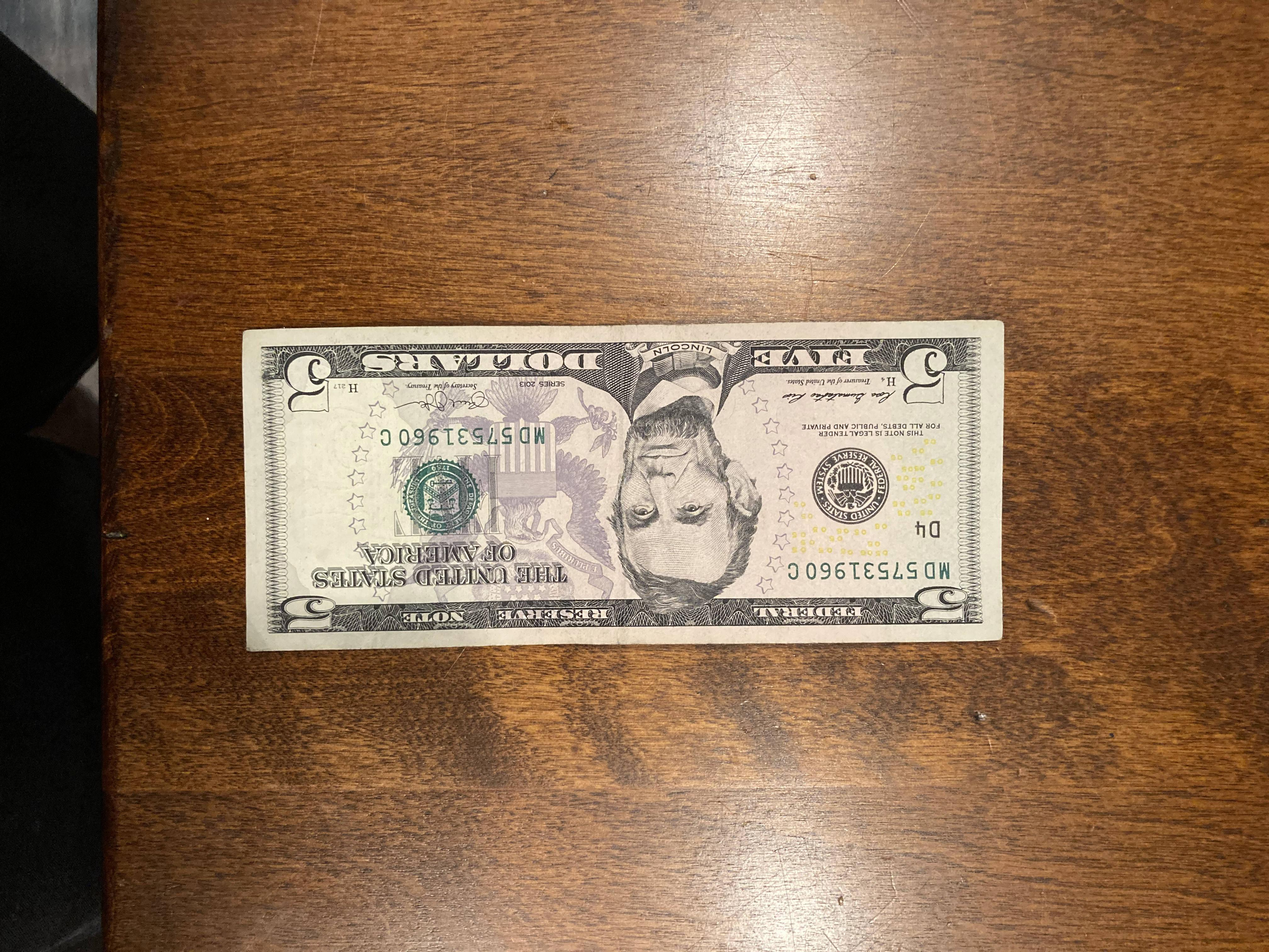five-front: (243, 319, 1006, 652)
